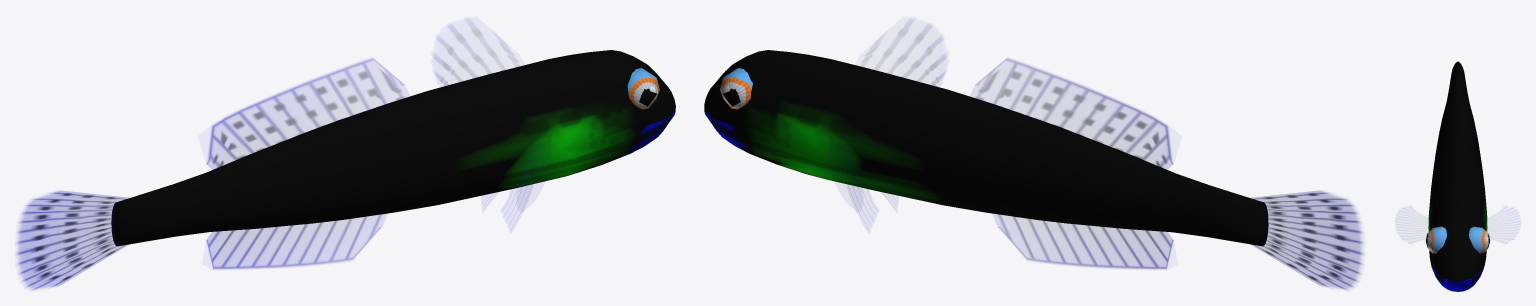
File: diamond_goby_lod1.glb
The picture shows the model from 3 angles, left to right: view 1: azimuth 30°, elevation 25°; view 2: azimuth 150°, elevation 25°; view 3: azimuth 270°, elevation 25°; orthographic projection. The views are drawn at different scales.
Parts seen in each view (by area): view 1: Body, FinCaudal, FinDorsal2, FinAnal, FinDorsal, EyeR; view 2: Body, FinCaudal, FinDorsal2, FinAnal, FinDorsal, EyeL; view 3: Body, EyeL, EyeR.
Part boxes in pixels (<box>): Body: <box>111,50,675,246</box>; FinCaudal: <box>17,190,128,289</box>; FinDorsal2: <box>207,58,404,169</box>; FinAnal: <box>206,214,382,268</box>; FinDorsal: <box>434,19,520,86</box>; EyeR: <box>627,68,659,109</box>; Body: <box>704,50,1268,246</box>; FinCaudal: <box>1251,190,1362,289</box>; FinDorsal2: <box>975,58,1172,169</box>; FinAnal: <box>997,214,1173,268</box>; FinDorsal: <box>859,19,945,86</box>; EyeL: <box>720,68,752,109</box>; Body: <box>1428,61,1487,291</box>; EyeL: <box>1469,226,1489,253</box>; EyeR: <box>1426,226,1446,253</box>.
Bounding box in the file's own units: 1 × 0.3158 × 0.2355.
Materials: 4 (3 with a texture image).
